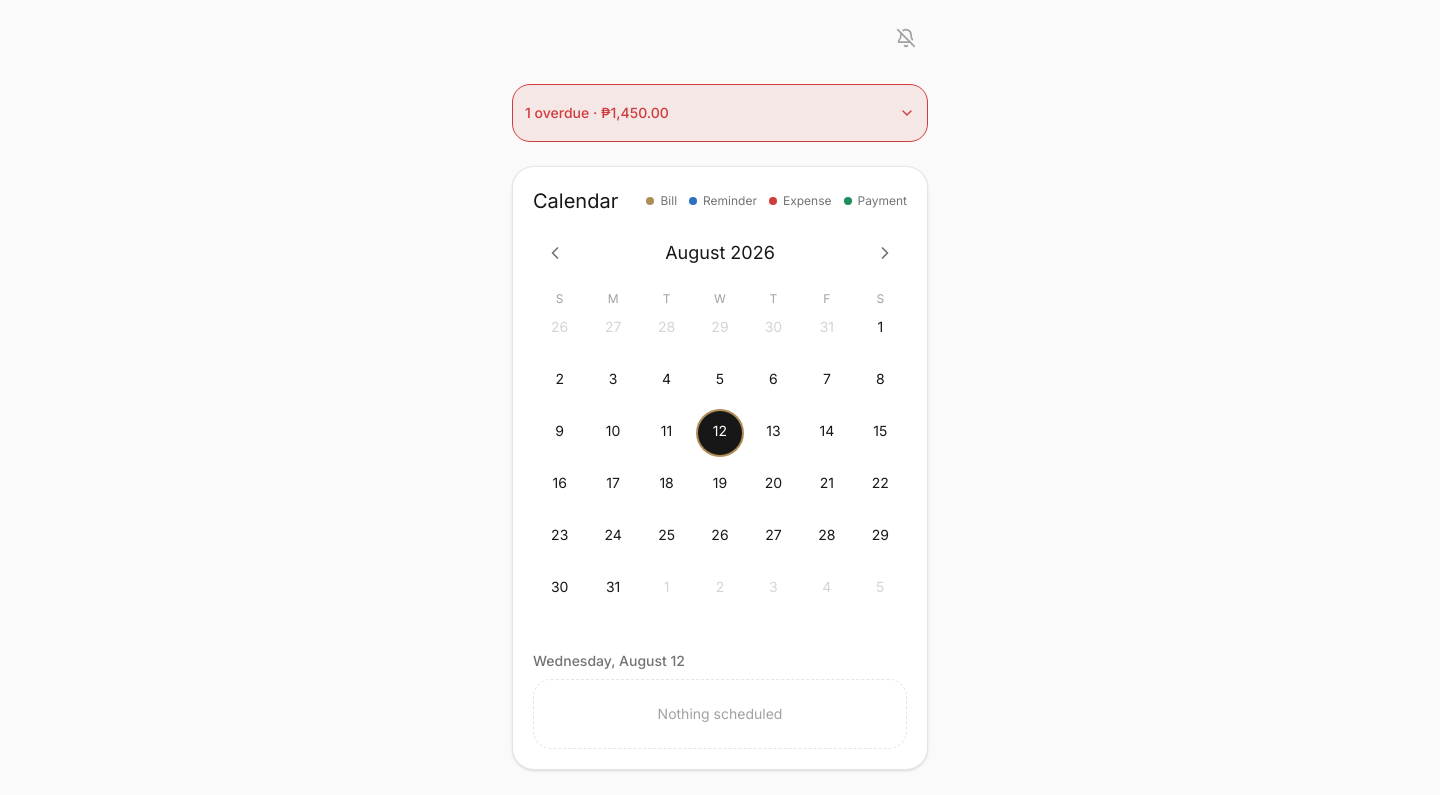
Test: HomePage › shows a warning when push registration fails after granting permission
Click the button with test id "notification-settings-trigger" at (906, 38), box top-left (884, 16), bottom-right (928, 60)
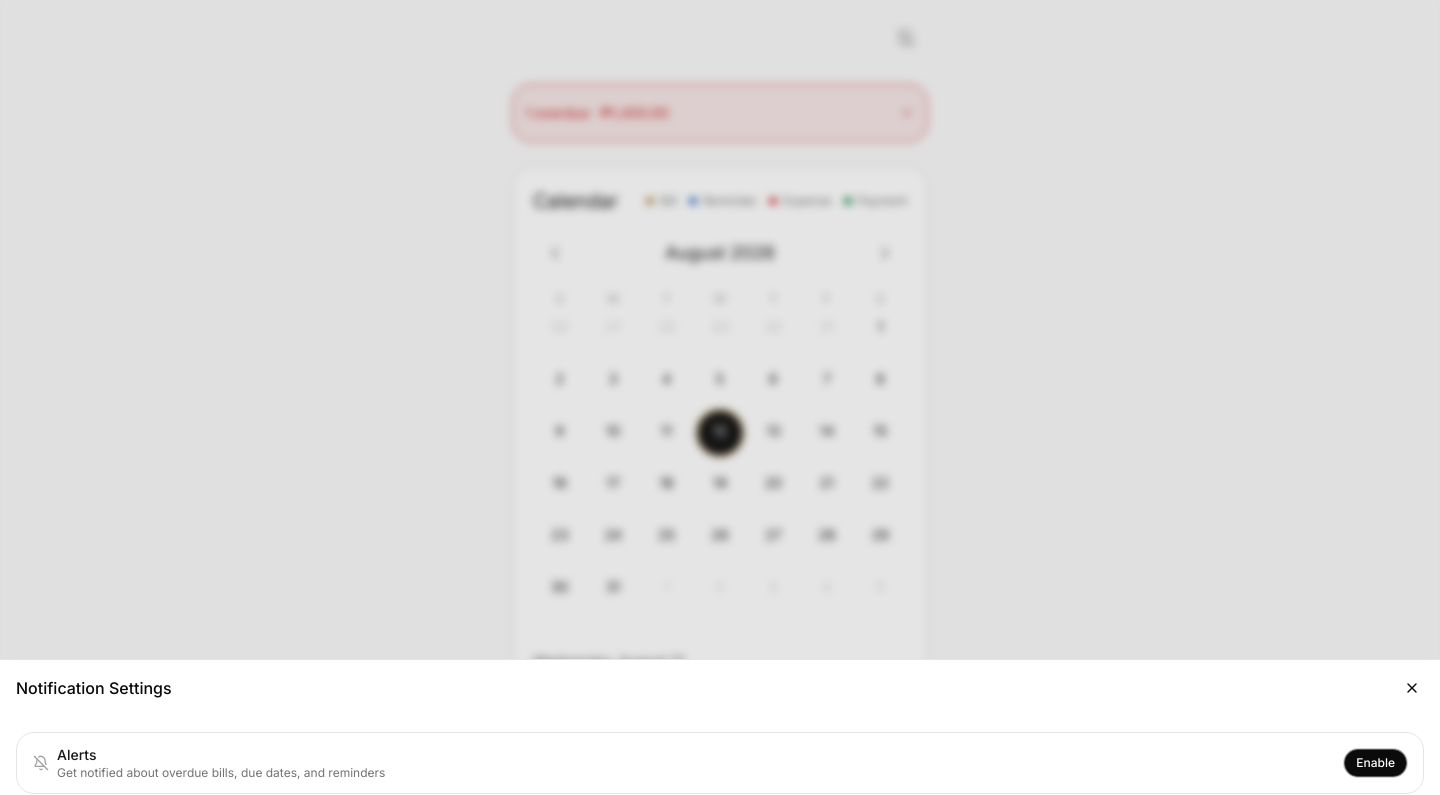
Click the button with test id "enable-notifications-button" at (1376, 763), box top-left (1344, 749), bottom-right (1407, 777)
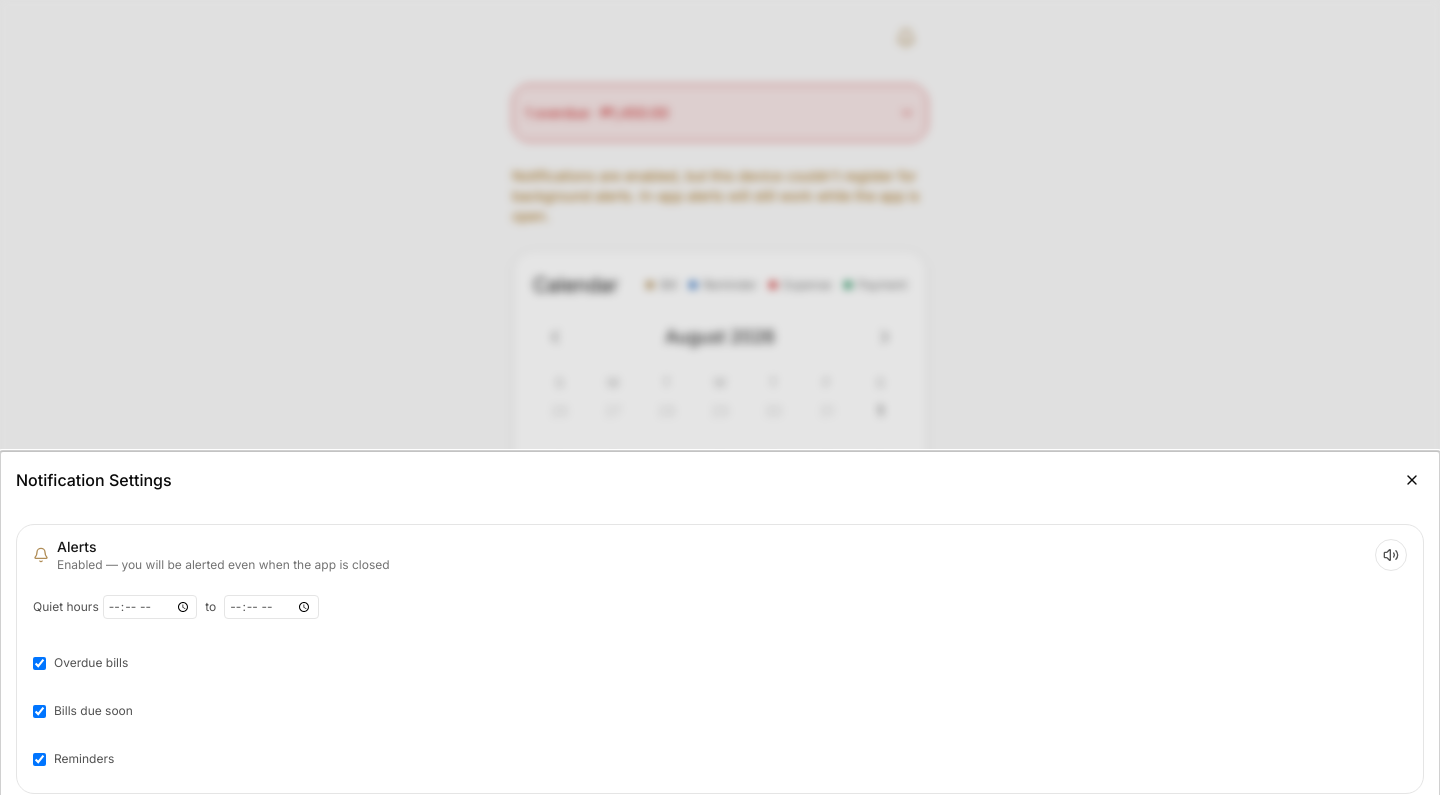
Now the text with test id "push-subscription-error" shows "couldn't register", box top-left (512, 167), bottom-right (920, 224)
